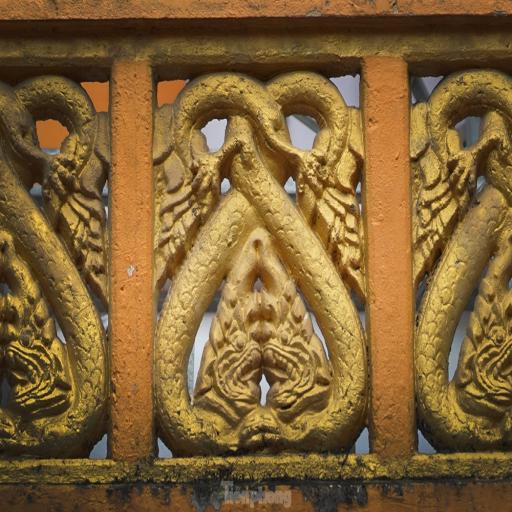ran: (257, 220, 335, 422), (0, 230, 79, 424), (198, 217, 266, 418), (458, 222, 512, 434)
